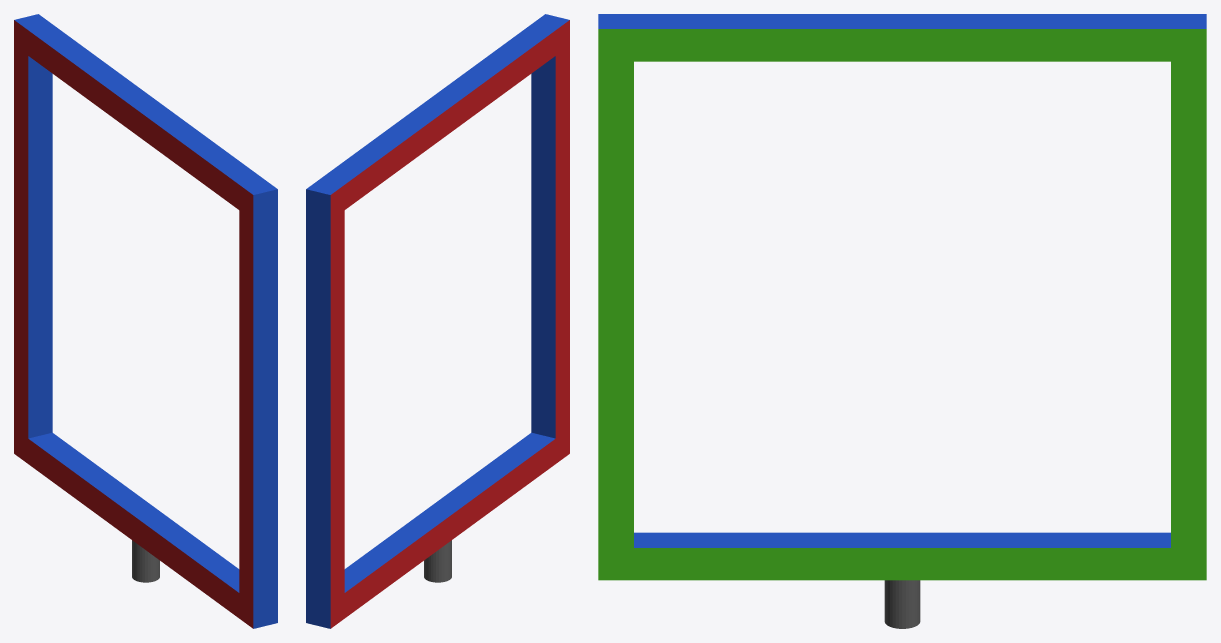
The model's file is frame_1.dae.
3 renders of one model, left to right at view 1: azimuth 30°, elevation 25°; view 2: azimuth 150°, elevation 25°; view 3: azimuth 270°, elevation 25°, orthographic. The views are drawn at different scales.
Visible parts, largest first — view 1: Plane; view 2: Plane; view 3: Plane.
Part boxes in pixels (x1,y1,x2,y2): Plane: (14, 14, 277, 628); Plane: (306, 14, 569, 628); Plane: (598, 14, 1206, 628).
Bounding box in the file's own units: 0.0647 × 1.1 × 1.2.
Materials: 1 (1 with a texture image).
